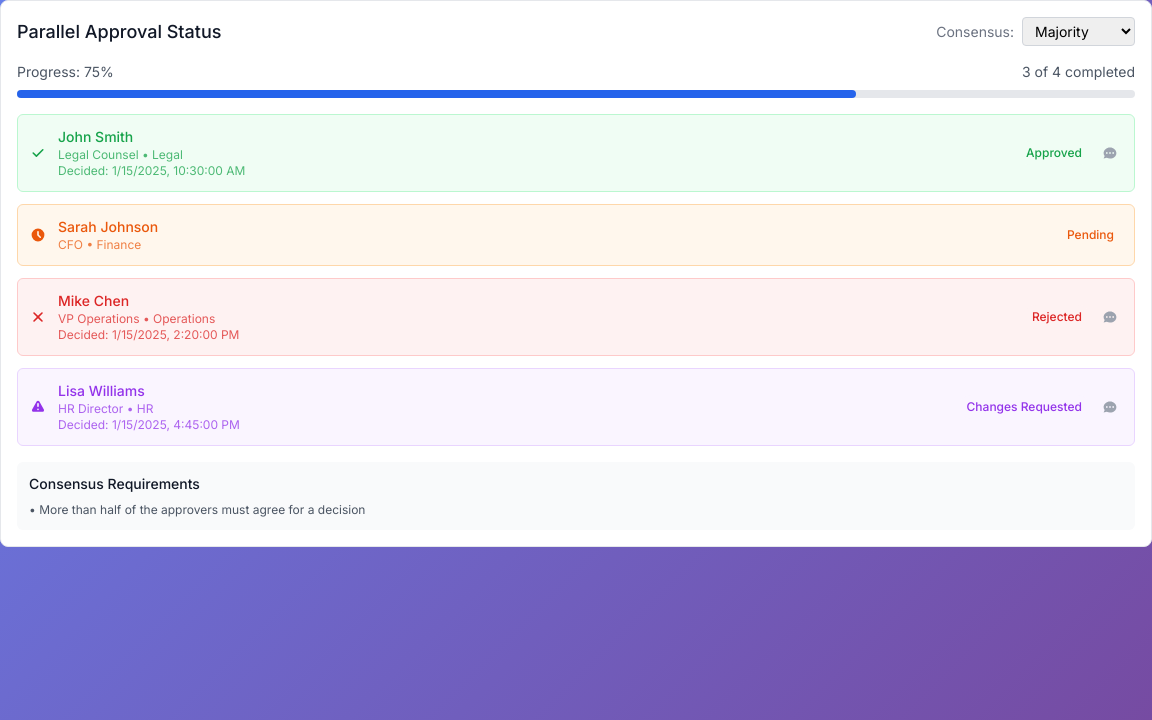
it: ParallelApprovals › opens comment modal when clicking comment button
Click the button titled "View comments" next to "Approved" at (1110, 153), box [1098,141,1122,165]
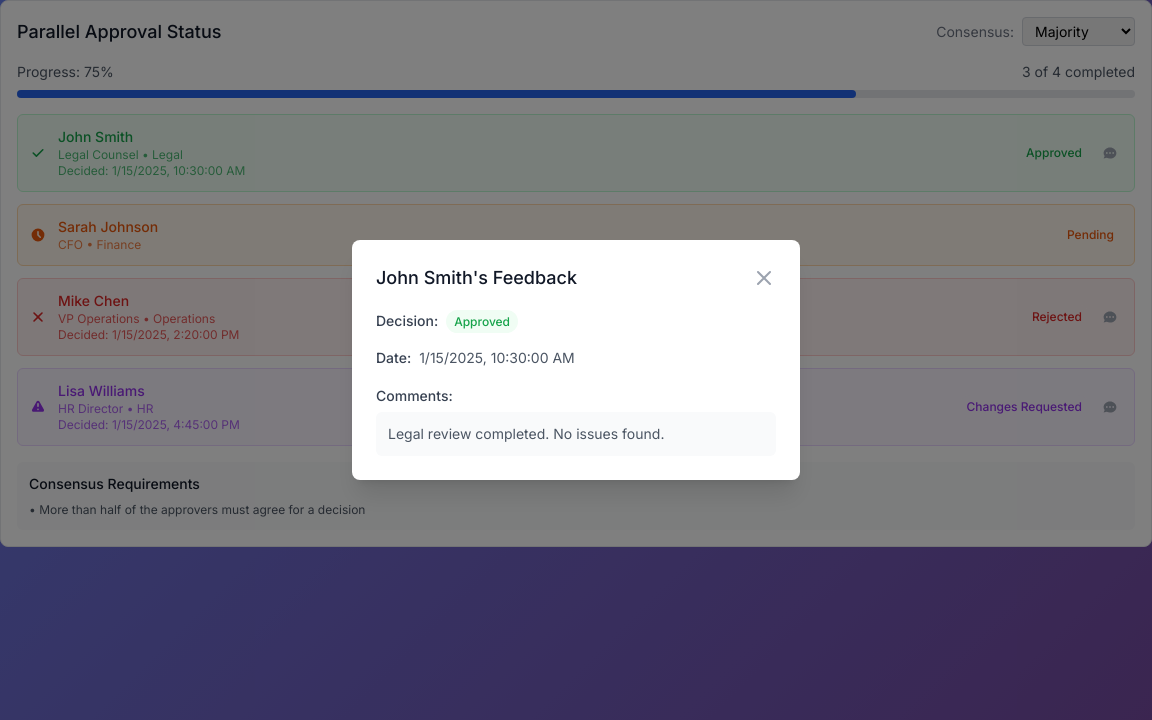
Expected: the heading "John Smith's Feedback" is shown, [376,264,577,292]
